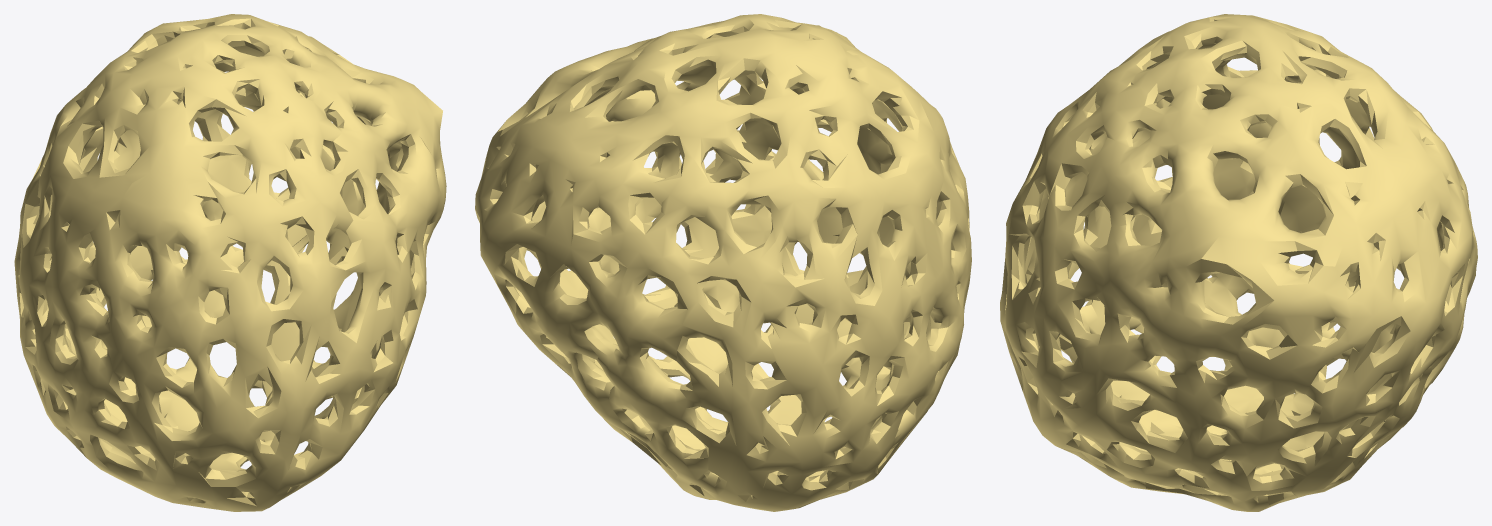
The model's file is fma73520_mm2878.glb.
3 renders of one model, left to right at view 1: azimuth 30°, elevation 25°; view 2: azimuth 150°, elevation 25°; view 3: azimuth 270°, elevation 25°, orthographic. The views are drawn at different scales.
Visible parts, largest first — view 1: FMA73520_MM2878; view 2: FMA73520_MM2878; view 3: FMA73520_MM2878.
Part boxes in pixels (x1=…): FMA73520_MM2878: x1=14, y1=14, x2=446, y2=511; FMA73520_MM2878: x1=475, y1=14, x2=971, y2=511; FMA73520_MM2878: x1=1000, y1=14, x2=1477, y2=511.
Bounding box in the file's own units: 0.00812 × 0.00855 × 0.00795.
